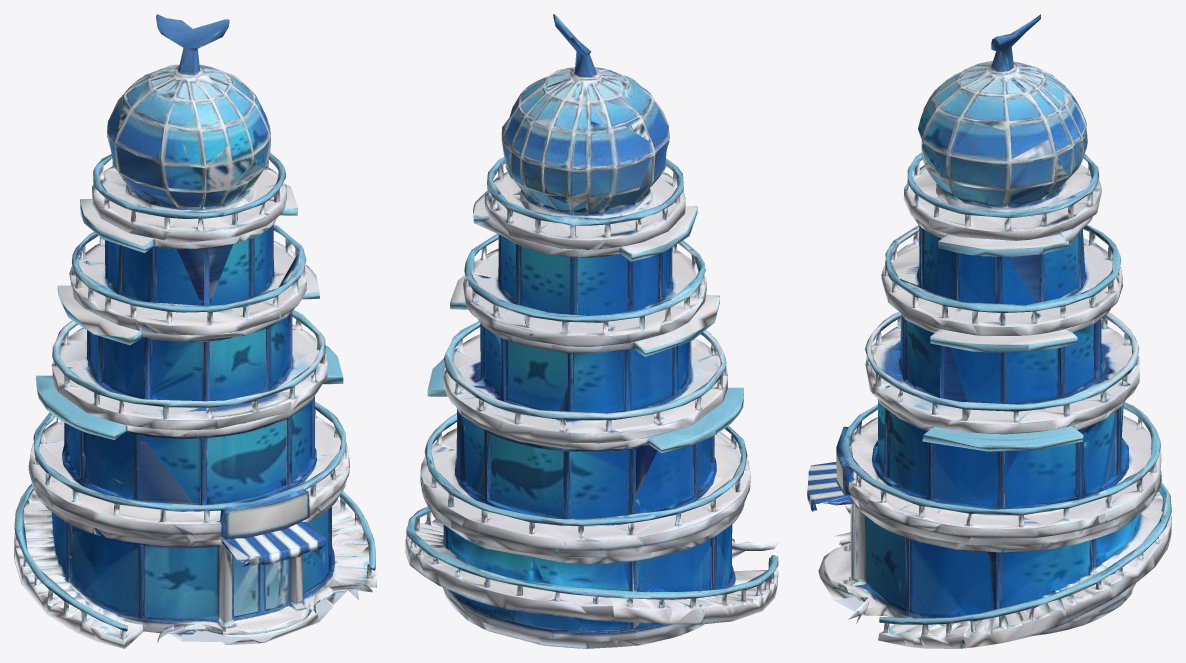
Rendered from aquarium_lo.glb.
3 renders of one model, left to right at view 1: azimuth 30°, elevation 25°; view 2: azimuth 150°, elevation 25°; view 3: azimuth 270°, elevation 25°, orthographic. The views are drawn at different scales.
Bounding box in the file's own units: 1.14 × 1.9 × 1.13.
Materials: 1 (1 with a texture image).
